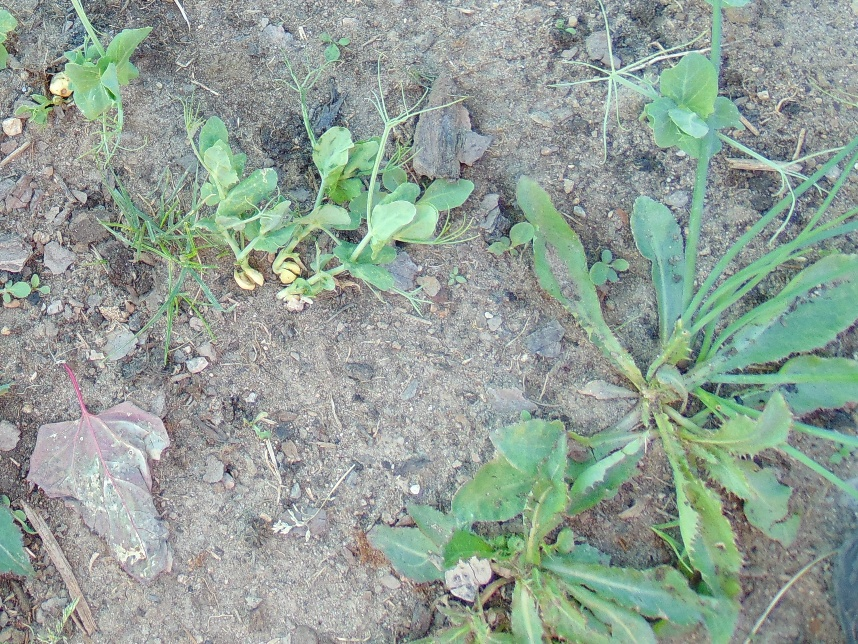crop: (182, 70, 475, 317), (580, 31, 822, 197), (17, 1, 150, 165), (1, 10, 21, 43), (722, 1, 755, 7)
weed: (515, 173, 857, 592), (365, 413, 704, 644), (111, 172, 209, 326), (1, 490, 41, 588), (487, 220, 534, 262), (1, 272, 52, 310), (590, 249, 631, 287), (319, 30, 351, 62)
